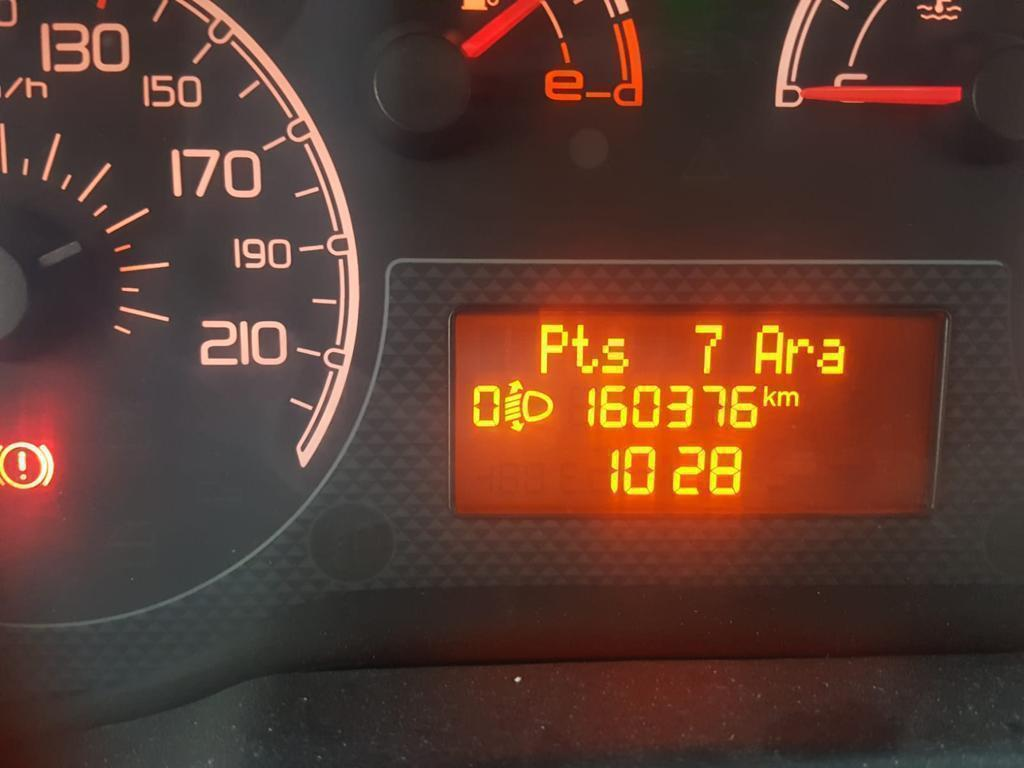0: (621, 442, 657, 498), (629, 382, 665, 430), (469, 381, 503, 430)
1: (580, 384, 599, 428), (604, 444, 619, 495)
2: (671, 442, 705, 498)
3: (666, 381, 697, 430)
6: (728, 383, 759, 429), (601, 382, 627, 429)
7: (690, 320, 725, 377), (700, 381, 728, 429)
8: (707, 442, 744, 497)
X: (534, 320, 571, 377), (751, 320, 782, 376), (571, 321, 599, 376), (813, 336, 848, 376), (599, 334, 630, 376), (783, 335, 814, 375), (777, 389, 801, 409), (761, 383, 777, 409)
odometer: (440, 296, 958, 525)
